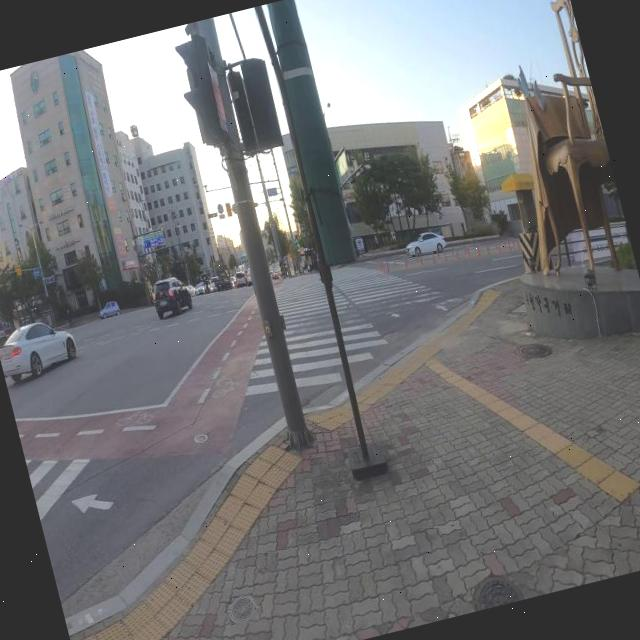crosswalk: (241, 264, 464, 401), (25, 458, 137, 600)
